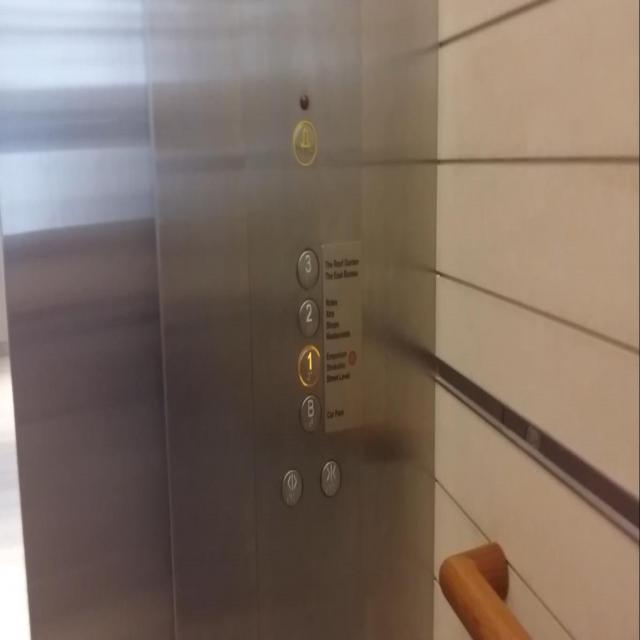1: (296, 343, 322, 389)
2: (297, 296, 320, 337)
3: (294, 246, 320, 291)
B: (297, 392, 322, 432)
alarm: (292, 118, 318, 168)
close: (319, 458, 341, 499)
open: (279, 467, 303, 508)
